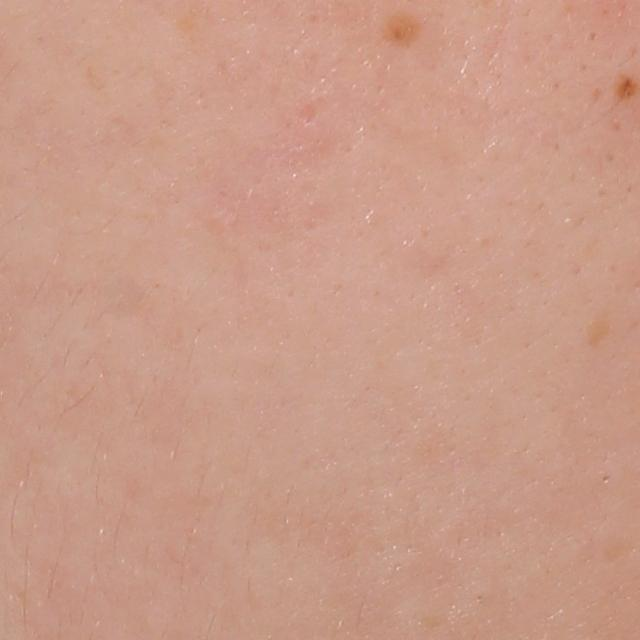atrophic_scar: (297, 101, 316, 128)
nevus: (614, 71, 640, 105)
